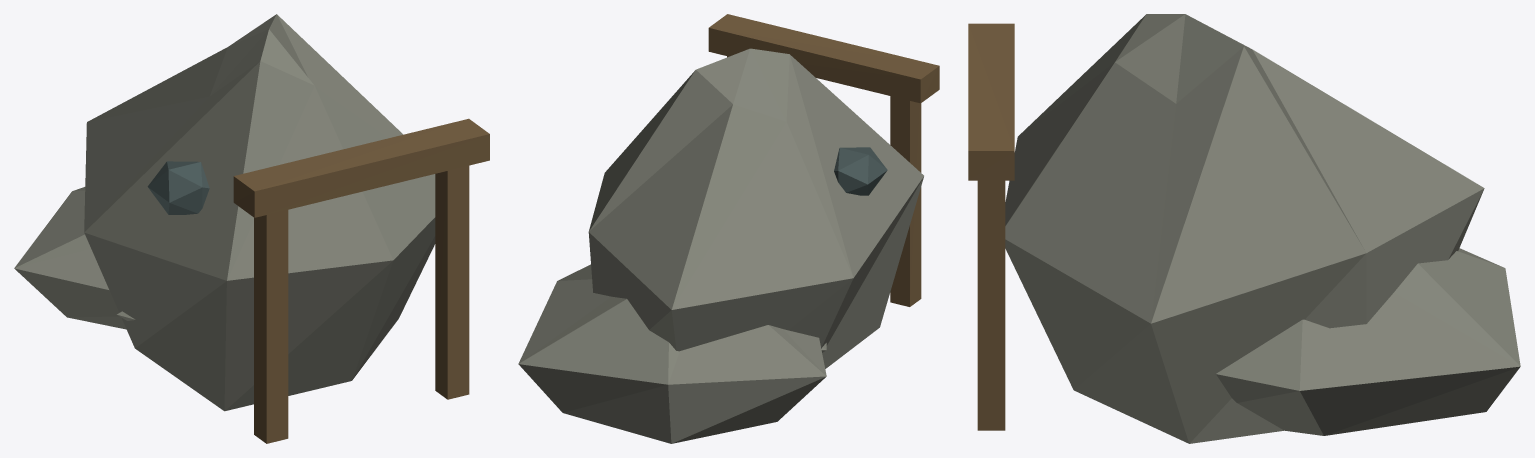
Rendered from iron_deposit-far.glb.
3 views of the same model, side by side, from view 1: azimuth 30°, elevation 25°; view 2: azimuth 150°, elevation 25°; view 3: azimuth 270°, elevation 25° (orthographic). The views are drawn at different scales.
Visible parts, largest first — view 1: world-scenery/iron_deposit-far; view 2: world-scenery/iron_deposit-far; view 3: world-scenery/iron_deposit-far.
Boxes of the visible parts, left/top/right/bottom form: world-scenery/iron_deposit-far: left=14, top=14, right=489, bottom=443; world-scenery/iron_deposit-far: left=518, top=14, right=939, bottom=443; world-scenery/iron_deposit-far: left=968, top=14, right=1520, bottom=443.
Size of the model in its own units: 1.92 by 1.7 by 2.38.
